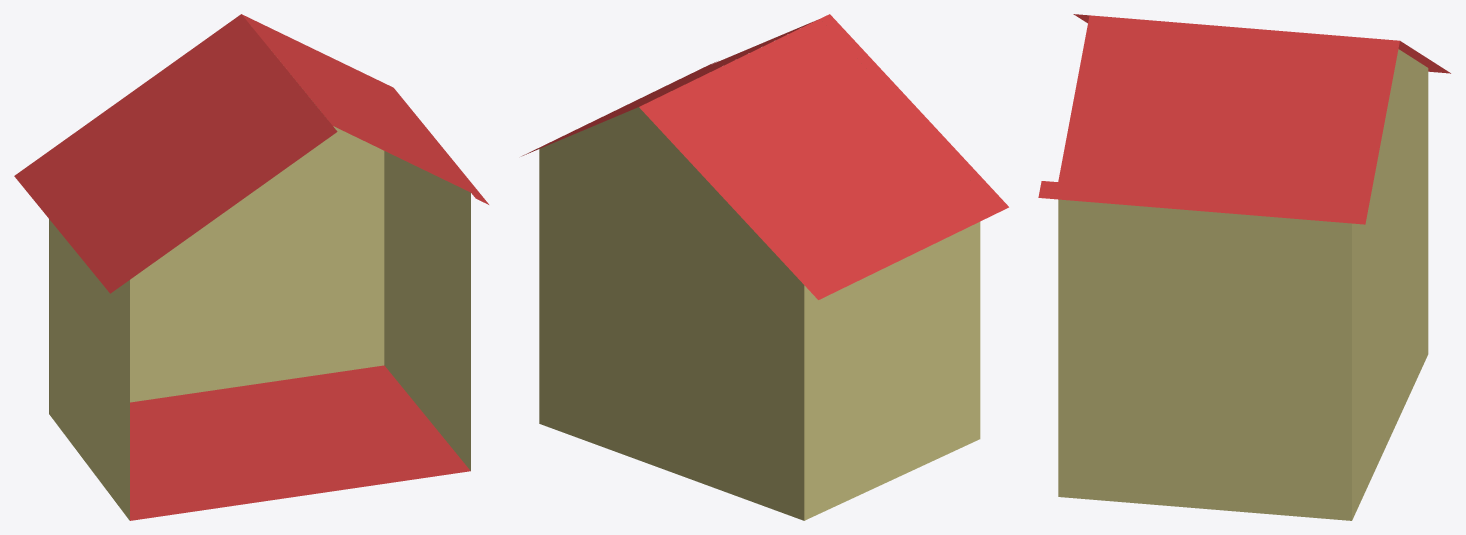
3 views of the same model, side by side, from view 1: azimuth 30°, elevation 25°; view 2: azimuth 150°, elevation 25°; view 3: azimuth 270°, elevation 25° (orthographic). The views are drawn at different scales.
Bounding box in the file's own units: 15.06 × 12.23 × 13.49.
